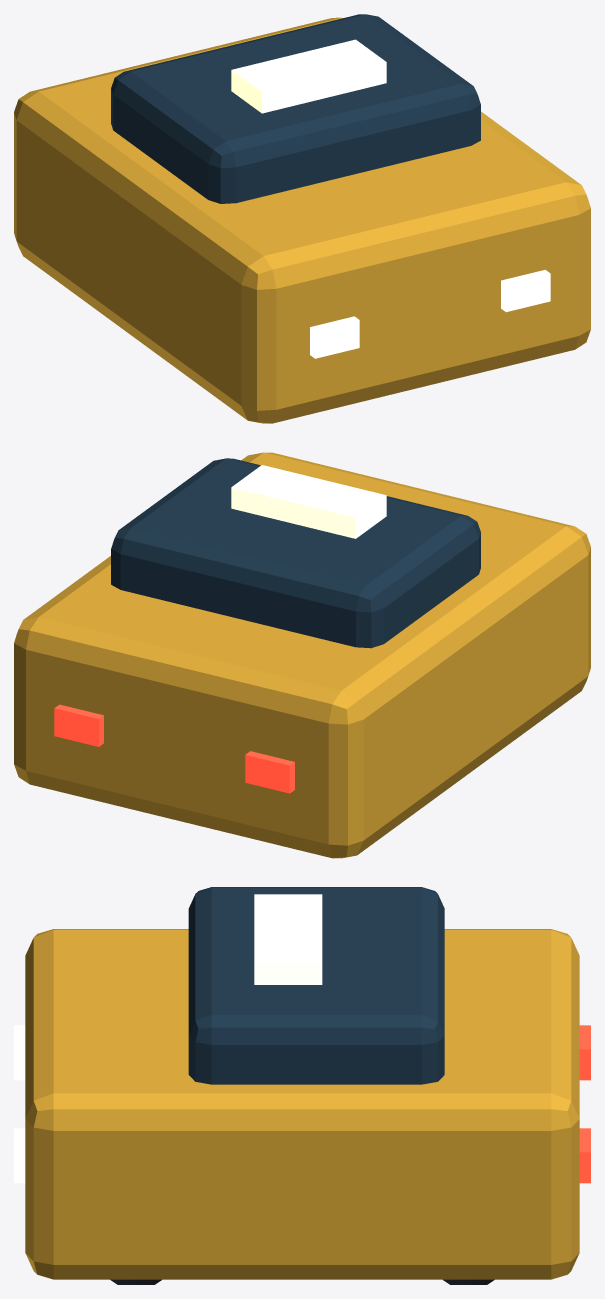
Rendered from hd_taxi.gltf.
The picture shows the model from 3 angles, top to bottom: view 1: azimuth 30°, elevation 25°; view 2: azimuth 150°, elevation 25°; view 3: azimuth 270°, elevation 25°; orthographic projection. The views are drawn at different scales.
Parts seen in each view (by area): view 1: body, cab, sign, head0.42900000000000005, head-0.42900000000000005; view 2: body, cab, sign, tail-0.42900000000000005, tail0.42900000000000005; view 3: body, cab, sign, head0.42900000000000005, head-0.42900000000000005, tail0.42900000000000005, tail-0.42900000000000005.
Part boxes in pixels (<box>): body: <box>14,17,590,423</box>; cab: <box>111,14,480,203</box>; sign: <box>231,39,386,113</box>; head0.42900000000000005: <box>501,269,550,312</box>; head-0.42900000000000005: <box>310,316,359,358</box>; body: <box>14,452,590,858</box>; cab: <box>111,458,480,648</box>; sign: <box>231,465,386,538</box>; tail-0.42900000000000005: <box>245,751,294,793</box>; tail0.42900000000000005: <box>54,704,103,746</box>; body: <box>25,929,579,1279</box>; cab: <box>188,887,444,1084</box>; sign: <box>254,894,322,984</box>; head0.42900000000000005: <box>14,1128,25,1183</box>; head-0.42900000000000005: <box>14,1025,25,1080</box>; tail0.42900000000000005: <box>579,1128,590,1183</box>; tail-0.42900000000000005: <box>579,1025,590,1080</box>.
Size of the model in its own units: 1.56 by 1.06 by 2.03.
